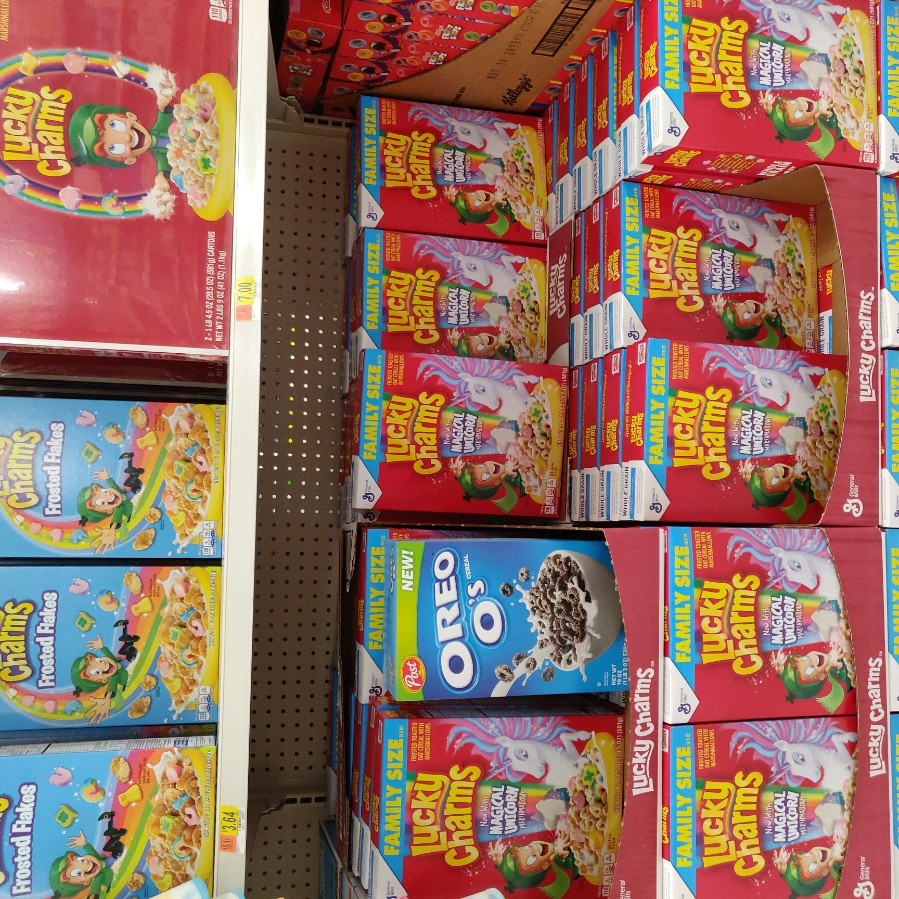Oreo-563424384: (379, 535, 632, 706)
